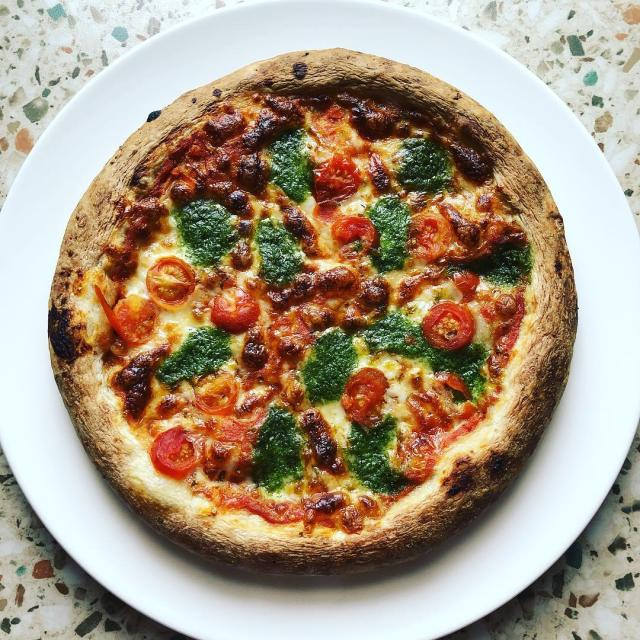pizza: (46, 48, 579, 578)
tomatoes: (150, 423, 207, 481), (105, 290, 159, 344), (311, 150, 363, 206), (340, 367, 386, 428), (421, 301, 475, 350), (146, 258, 198, 308), (208, 289, 264, 332), (392, 432, 439, 481), (192, 370, 240, 414), (408, 212, 450, 261), (331, 220, 378, 252), (435, 369, 470, 402)
